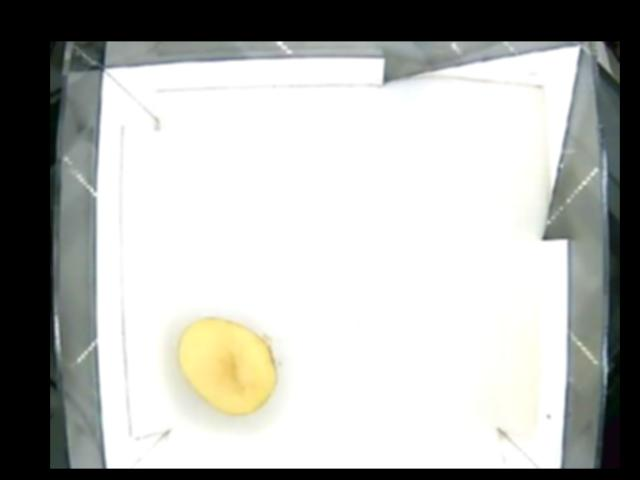Potato: (178, 316, 277, 412)
